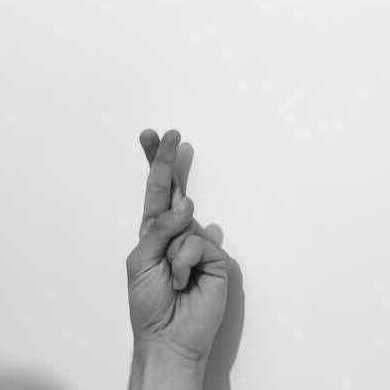R: (125, 129, 229, 362)
